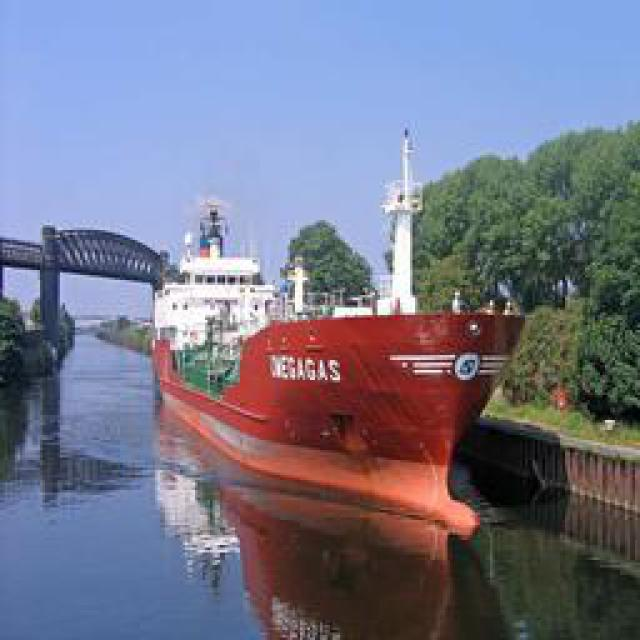Ship: (145, 153, 538, 608)
